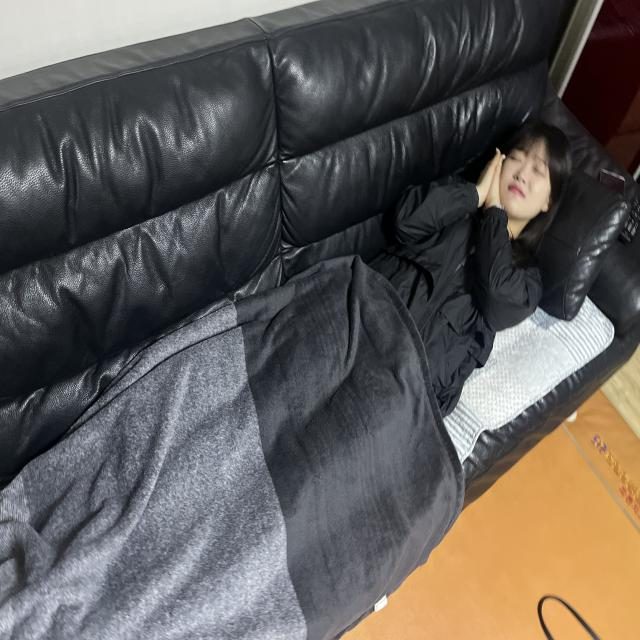people: (0, 118, 581, 640)
